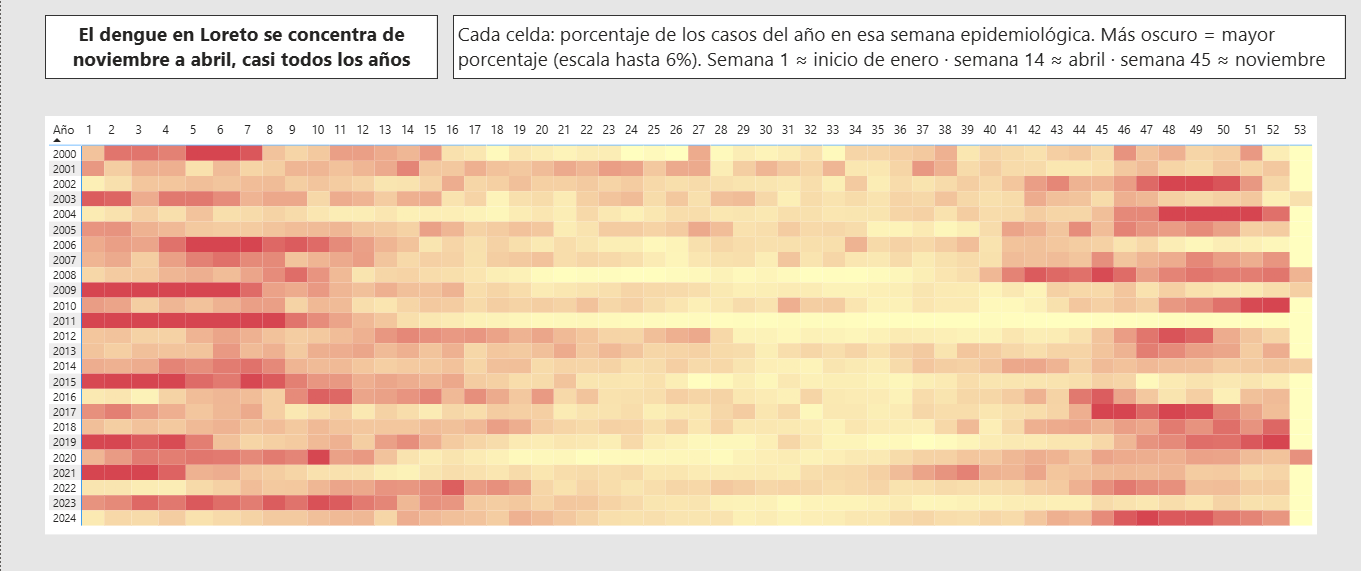

The dashboard page shown, as its layout file describes it:
{"tool":"powerbi","page":{"name":"ESTACIONALIDAD","canvas":[1700,720],"ordinal":1},"visuals":[{"type":"textbox","box":[55,18.8,491.2,80],"z":1000},{"type":"pivotTable","fields":{"Rows":["Anios.ano"],"Columns":["casos.semana"],"Values":["casos.% del año"]},"box":[55,145,1590,522.5],"z":2000},{"type":"textbox","box":[565,18.8,1116.2,80],"z":2001}]}

Visuals, with their boxes in screenshot pixels (x1, y1, x2, y2), scaled from the page's 1700x720 canvas onto the 1361x571 screenshot:
textbox: {"x1": 44, "y1": 15, "x2": 437, "y2": 78}
pivotTable - Anios.ano x casos.semana: {"x1": 44, "y1": 115, "x2": 1317, "y2": 529}
textbox: {"x1": 452, "y1": 15, "x2": 1346, "y2": 78}
